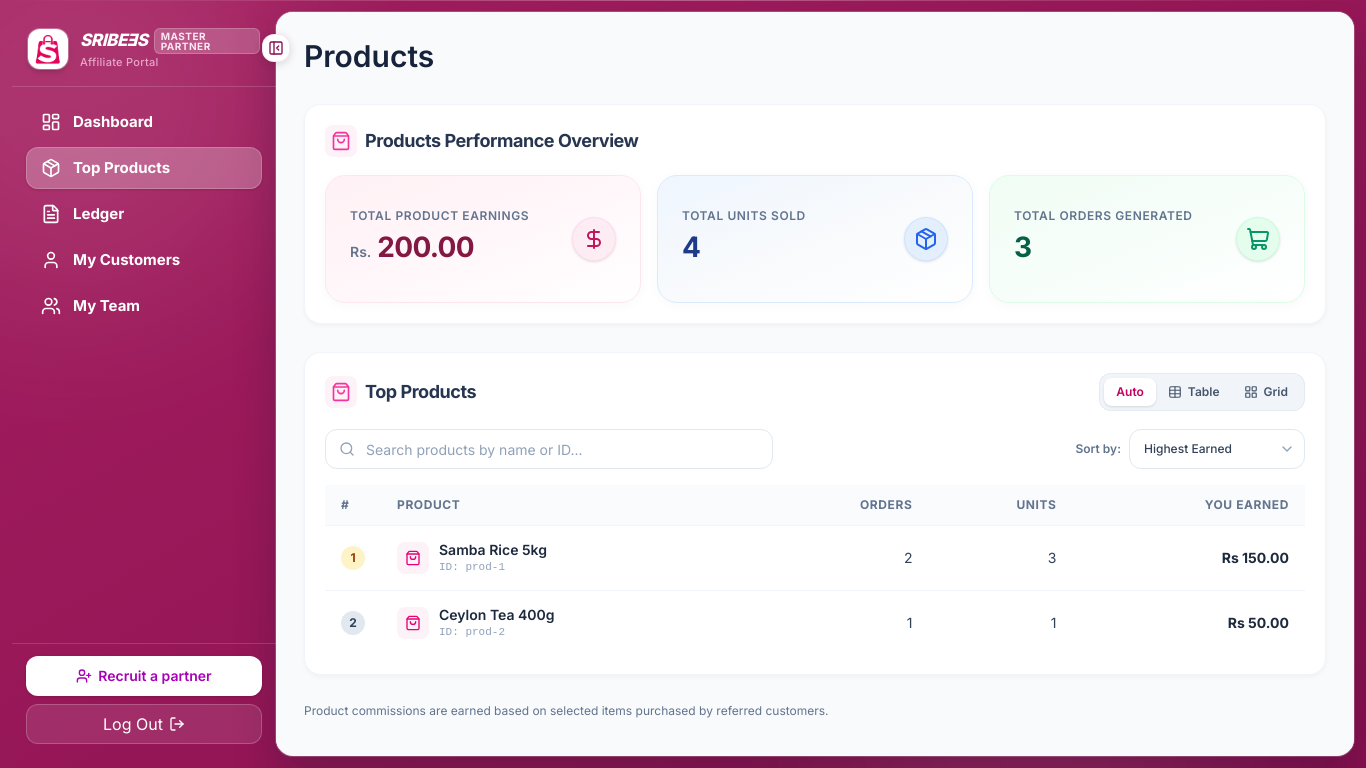
Products Page › filters products by search input
Expected: the text "Samba Rice 5kg" is shown, [439,540,547,560]
In the field with placeholder "Search products by name or ID...": (549, 449) [325,429,773,469], type "Ceylon"
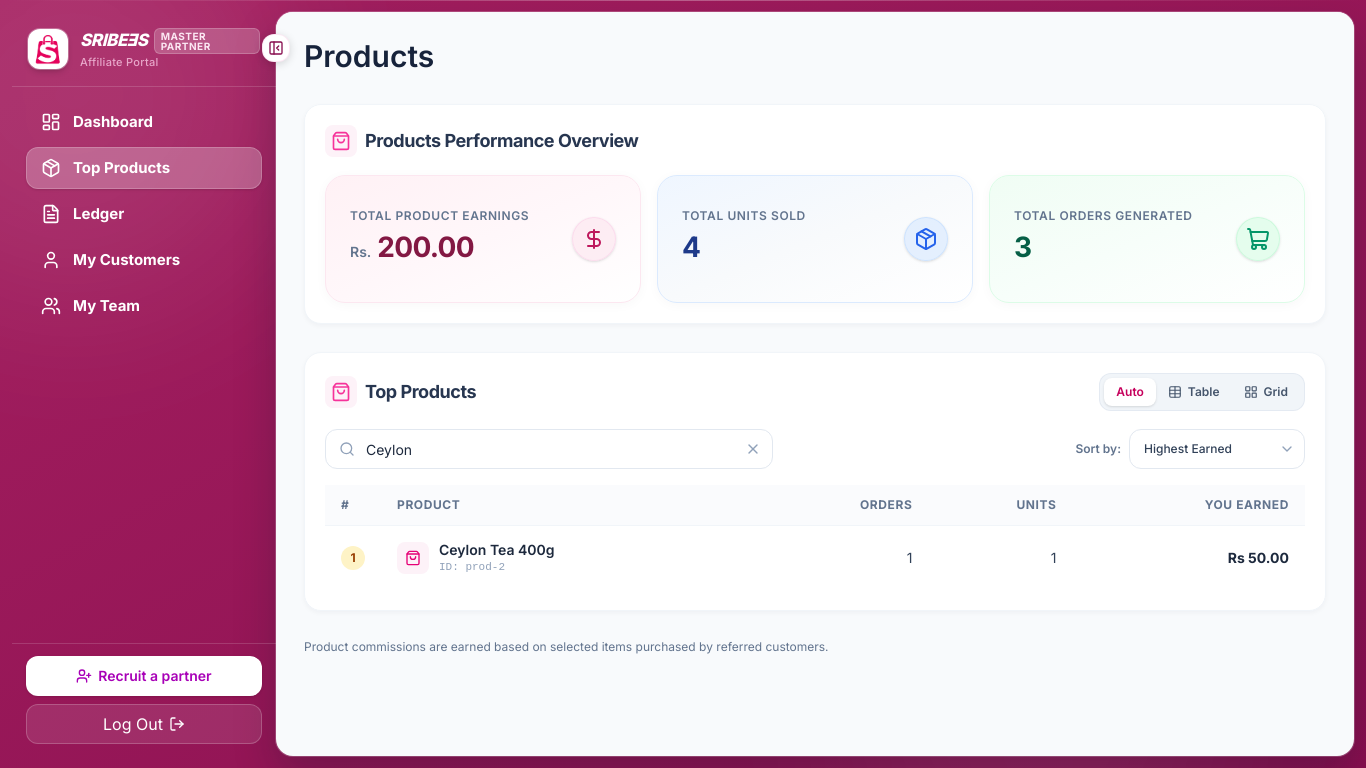
Expected: the text "Ceylon Tea 400g" is shown, [439,540,555,560]
Expected: the text "Samba Rice 5kg" is gone
